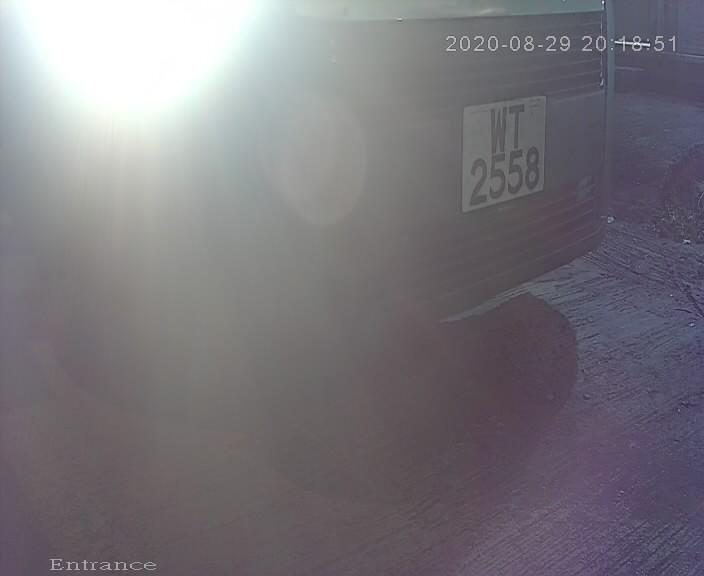License Plate: (444, 85, 551, 227)
